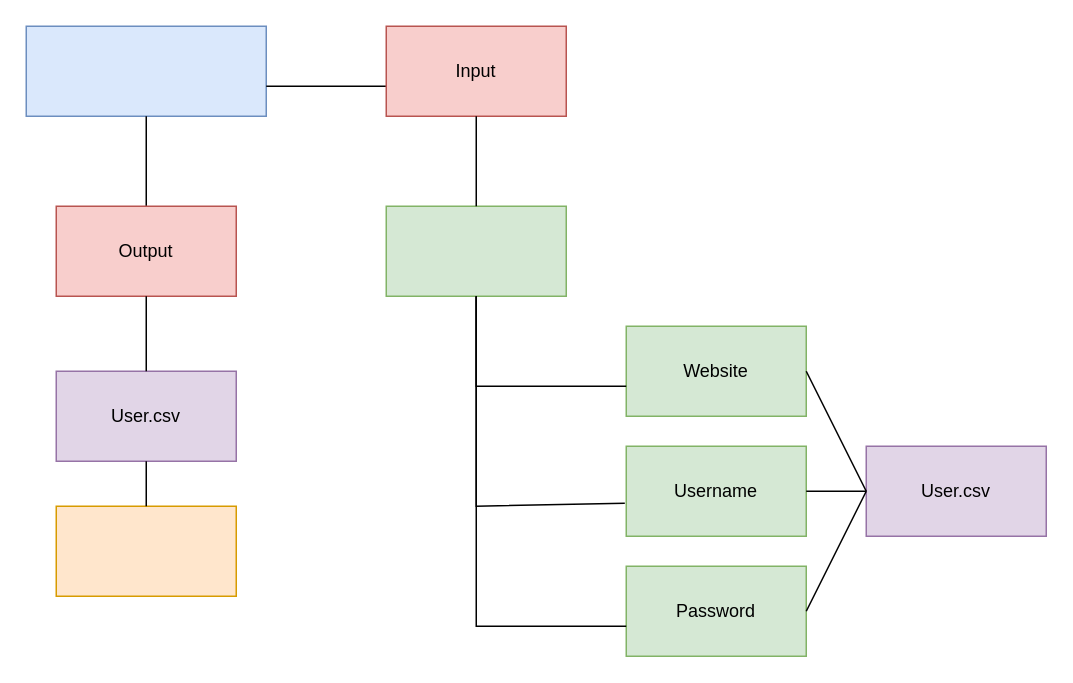
Some shapes in this 1073 by 683 pixel diagram are drawn without their labels. Each missing label, with the centre of its shape:
"Displayed Information" goes at point 145,550.
"kstitt4.pythonanywhere.com" goes at point 145,70.
"User Input" goes at point 475,250.
